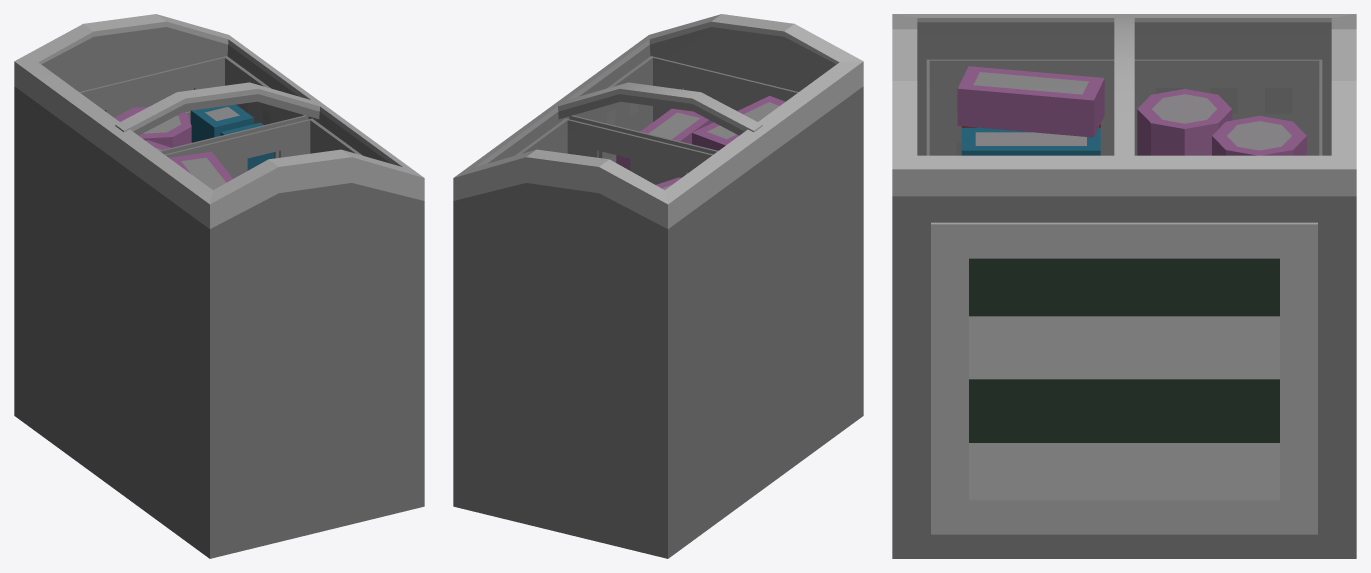
Rendered from SM_smallFreezer_01.glb.
The picture shows the model from 3 angles, left to right: view 1: azimuth 30°, elevation 25°; view 2: azimuth 150°, elevation 25°; view 3: azimuth 270°, elevation 25°; orthographic projection. The views are drawn at different scales.
Visible parts, largest first — view 1: SM_smallFreezer_01; view 2: SM_smallFreezer_01; view 3: SM_smallFreezer_01.
Boxes of the visible parts, box(x1,y1,x2,y2) form: SM_smallFreezer_01: box(14, 14, 424, 558); SM_smallFreezer_01: box(453, 14, 863, 558); SM_smallFreezer_01: box(892, 14, 1356, 558).
Size of the model in its own units: 0.6424 by 1.06 by 1.
Materials: 2 (1 with a texture image).
